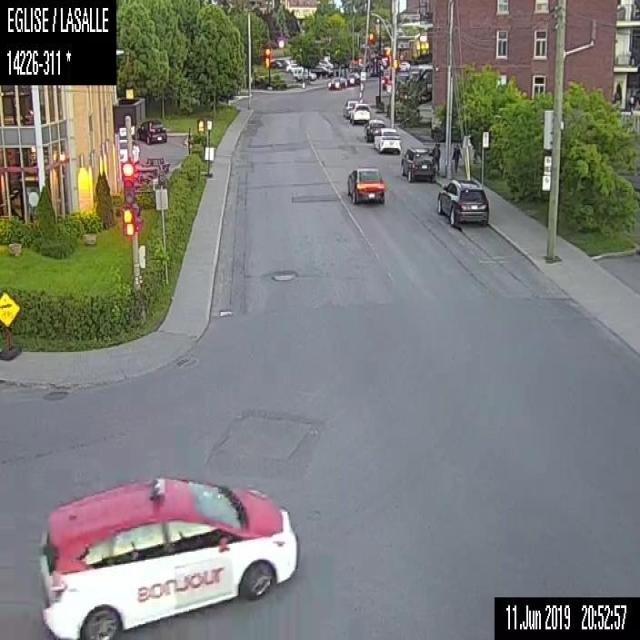pedestrian: (451, 140, 461, 172), (432, 140, 441, 172)
vehicle: (38, 476, 297, 639), (436, 176, 488, 227), (346, 165, 384, 204), (402, 145, 438, 184), (135, 117, 166, 144), (372, 126, 402, 153), (118, 138, 140, 165), (364, 117, 384, 142), (349, 102, 371, 123), (292, 64, 316, 81), (326, 74, 346, 91), (342, 97, 358, 117), (313, 63, 332, 77), (342, 70, 358, 84)
